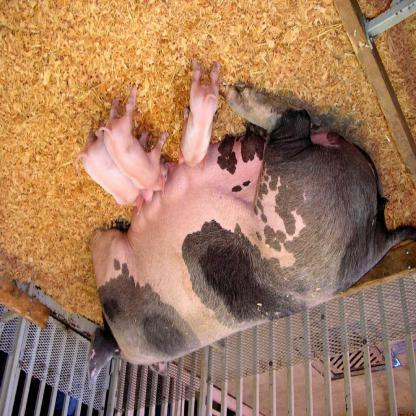boar: (87, 55, 416, 391)
